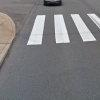Crosswalk: (17, 9, 100, 50)
